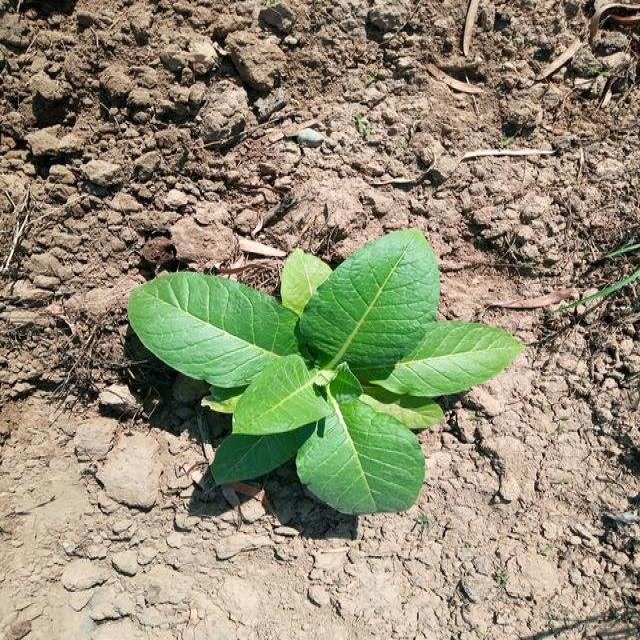crop: (131, 228, 518, 521)
